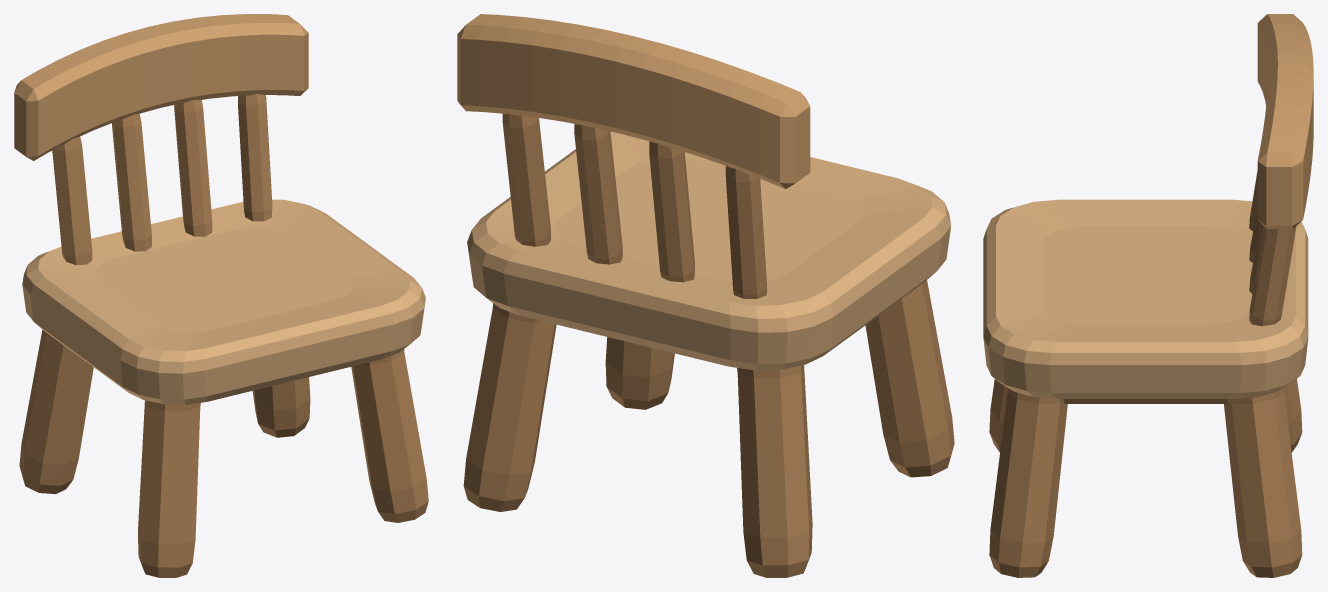
File: chair_oak_v02.glb
The picture shows the model from 3 angles, left to right: view 1: azimuth 30°, elevation 25°; view 2: azimuth 150°, elevation 25°; view 3: azimuth 270°, elevation 25°; orthographic projection. The views are drawn at different scales.
Parts seen in each view (by area): view 1: 01 • rounded thick seat, 05 • broad arched crest, 02 • leg (-1, -1), 02 • leg (1, -1), 02 • leg (-1, 1), 04 • back spindle 2, 04 • back spindle 3, 04 • back spindle 1, 04 • back spindle 4, 02 • leg (1, 1); view 2: 01 • rounded thick seat, 05 • broad arched crest, 02 • leg (-1, 1), 02 • leg (1, 1), 02 • leg (-1, -1), 04 • back spindle 3, 04 • back spindle 2, 04 • back spindle 4, 04 • back spindle 1, 02 • leg (1, -1); view 3: 01 • rounded thick seat, 02 • leg (1, -1), 02 • leg (1, 1), 05 • broad arched crest, 04 • back spindle 4, 02 • leg (-1, -1), 02 • leg (-1, 1), 03 • side apron 1.
Part boxes in pixels (x1,y1,x2,y2): 01 • rounded thick seat: [22, 199, 425, 404]; 05 • broad arched crest: [14, 14, 308, 160]; 02 • leg (-1, -1): [138, 400, 200, 577]; 02 • leg (1, -1): [351, 349, 428, 522]; 02 • leg (-1, 1): [19, 329, 93, 494]; 04 • back spindle 2: [111, 113, 151, 251]; 04 • back spindle 3: [174, 100, 212, 236]; 04 • back spindle 1: [52, 136, 92, 265]; 04 • back spindle 4: [238, 93, 272, 221]; 02 • leg (1, 1): [252, 377, 310, 437]; 01 • rounded thick seat: [467, 131, 950, 370]; 05 • broad arched crest: [457, 14, 810, 188]; 02 • leg (-1, 1): [737, 365, 812, 577]; 02 • leg (1, 1): [463, 303, 556, 511]; 02 • leg (-1, -1): [865, 280, 954, 477]; 04 • back spindle 3: [574, 124, 622, 264]; 04 • back spindle 2: [649, 141, 694, 282]; 04 • back spindle 4: [502, 113, 550, 246]; 04 • back spindle 1: [725, 166, 766, 298]; 02 • leg (1, -1): [605, 337, 674, 409]; 01 • rounded thick seat: [983, 199, 1308, 398]; 02 • leg (1, -1): [989, 388, 1067, 577]; 02 • leg (1, 1): [1224, 388, 1302, 577]; 05 • broad arched crest: [1257, 14, 1313, 228]; 04 • back spindle 4: [1249, 226, 1296, 326]; 02 • leg (-1, -1): [989, 379, 1007, 452]; 02 • leg (-1, 1): [1284, 379, 1302, 452]; 03 • side apron 1: [1063, 399, 1227, 403].
Size of the model in its own units: 0.561 by 0.7588 by 0.5079.
